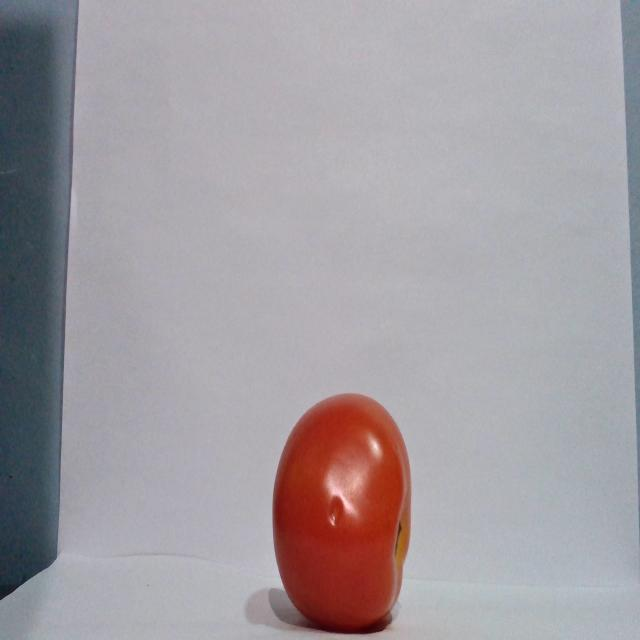Red: (270, 391, 412, 632)
